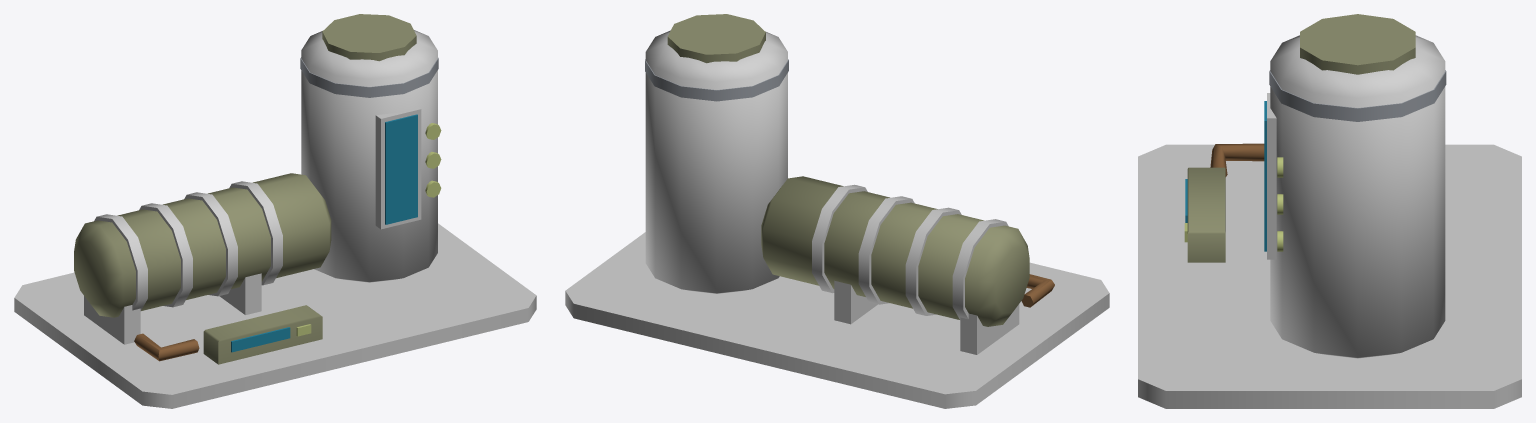
Rendered from emi_dynamo.obj.
3 views of the same model, side by side, from view 1: azimuth 30°, elevation 25°; view 2: azimuth 150°, elevation 25°; view 3: azimuth 270°, elevation 25° (orthographic). The views are drawn at different scales.
Visible parts, largest first — view 1: source_component_000, source_component_001, source_component_009, source_component_016, source_component_003, source_component_005, source_component_004, source_component_002, source_component_012, source_component_011, source_component_013, source_component_010 (+4 smaller); view 2: source_component_000, source_component_001, source_component_009, source_component_003, source_component_002, source_component_012, source_component_011, source_component_013, source_component_014, source_component_010, source_component_015, source_component_019; view 3: source_component_000, source_component_001, source_component_003, source_component_016, source_component_002, source_component_004, source_component_019, source_component_005.
Boxes of the visible parts, <box> form: source_component_000: <box>14,223,536,408</box>; source_component_001: <box>301,30,437,282</box>; source_component_009: <box>74,173,331,317</box>; source_component_016: <box>203,305,322,364</box>; source_component_003: <box>322,14,416,61</box>; source_component_005: <box>385,114,417,224</box>; source_component_004: <box>375,106,421,229</box>; source_component_002: <box>300,57,438,97</box>; source_component_012: <box>184,192,237,296</box>; source_component_011: <box>139,203,192,307</box>; source_component_013: <box>229,181,282,285</box>; source_component_010: <box>94,214,147,310</box>; source_component_000: <box>565,232,1109,408</box>; source_component_001: <box>645,30,787,293</box>; source_component_009: <box>761,176,1029,326</box>; source_component_003: <box>667,14,765,63</box>; source_component_002: <box>645,59,788,101</box>; source_component_012: <box>858,196,914,304</box>; source_component_011: <box>905,207,961,315</box>; source_component_013: <box>812,184,867,293</box>; source_component_014: <box>960,304,1019,354</box>; source_component_010: <box>952,219,1008,319</box>; source_component_015: <box>834,280,877,324</box>; source_component_019: <box>1021,274,1054,307</box>; source_component_000: <box>1138,144,1521,408</box>; source_component_001: <box>1270,35,1445,358</box>; source_component_003: <box>1300,14,1415,74</box>; source_component_016: <box>1187,167,1225,262</box>; source_component_002: <box>1269,70,1446,121</box>; source_component_004: <box>1267,93,1276,259</box>; source_component_019: <box>1210,143,1264,176</box>; source_component_005: <box>1264,101,1266,251</box>.
Size of the model in its own units: 5.86 by 3.46 by 3.86.
